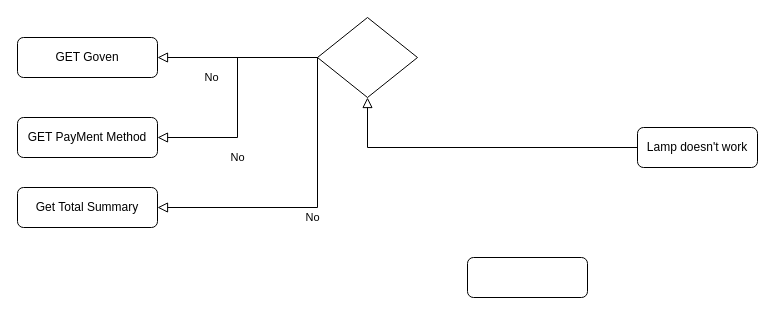
The diagram is 775 pixels wide and 315 high, and some of its shapes have lost their labels. Each missing label, with the box of its shape:
OnInit: (316, 16, 418, 98)
Replace Bulb: (466, 256, 588, 298)
